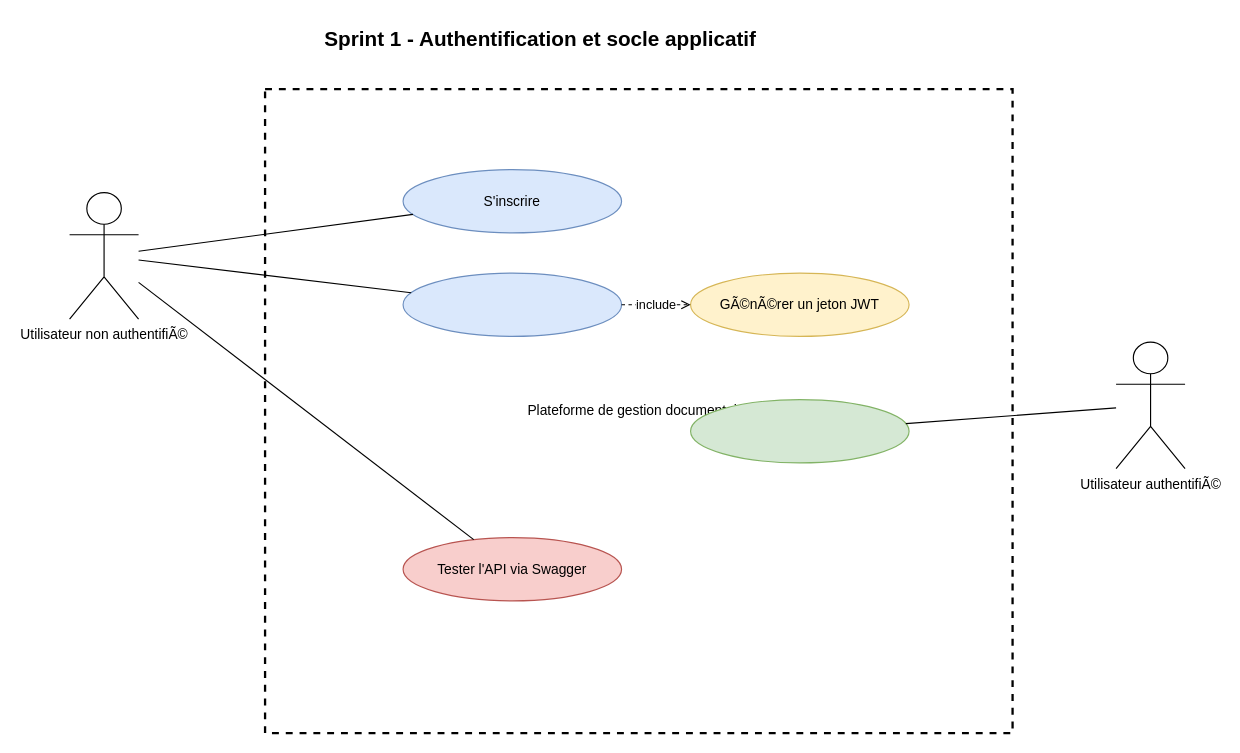
Some shapes in this 1240 by 753 pixel diagram are drawn without their labels. The shapes that lost their labels are listed below. From the top down, each one's centre as x and y in pixels, then its label:
At point (512, 304): "Se connecter".
At point (799, 430): "Consulter le profil".
